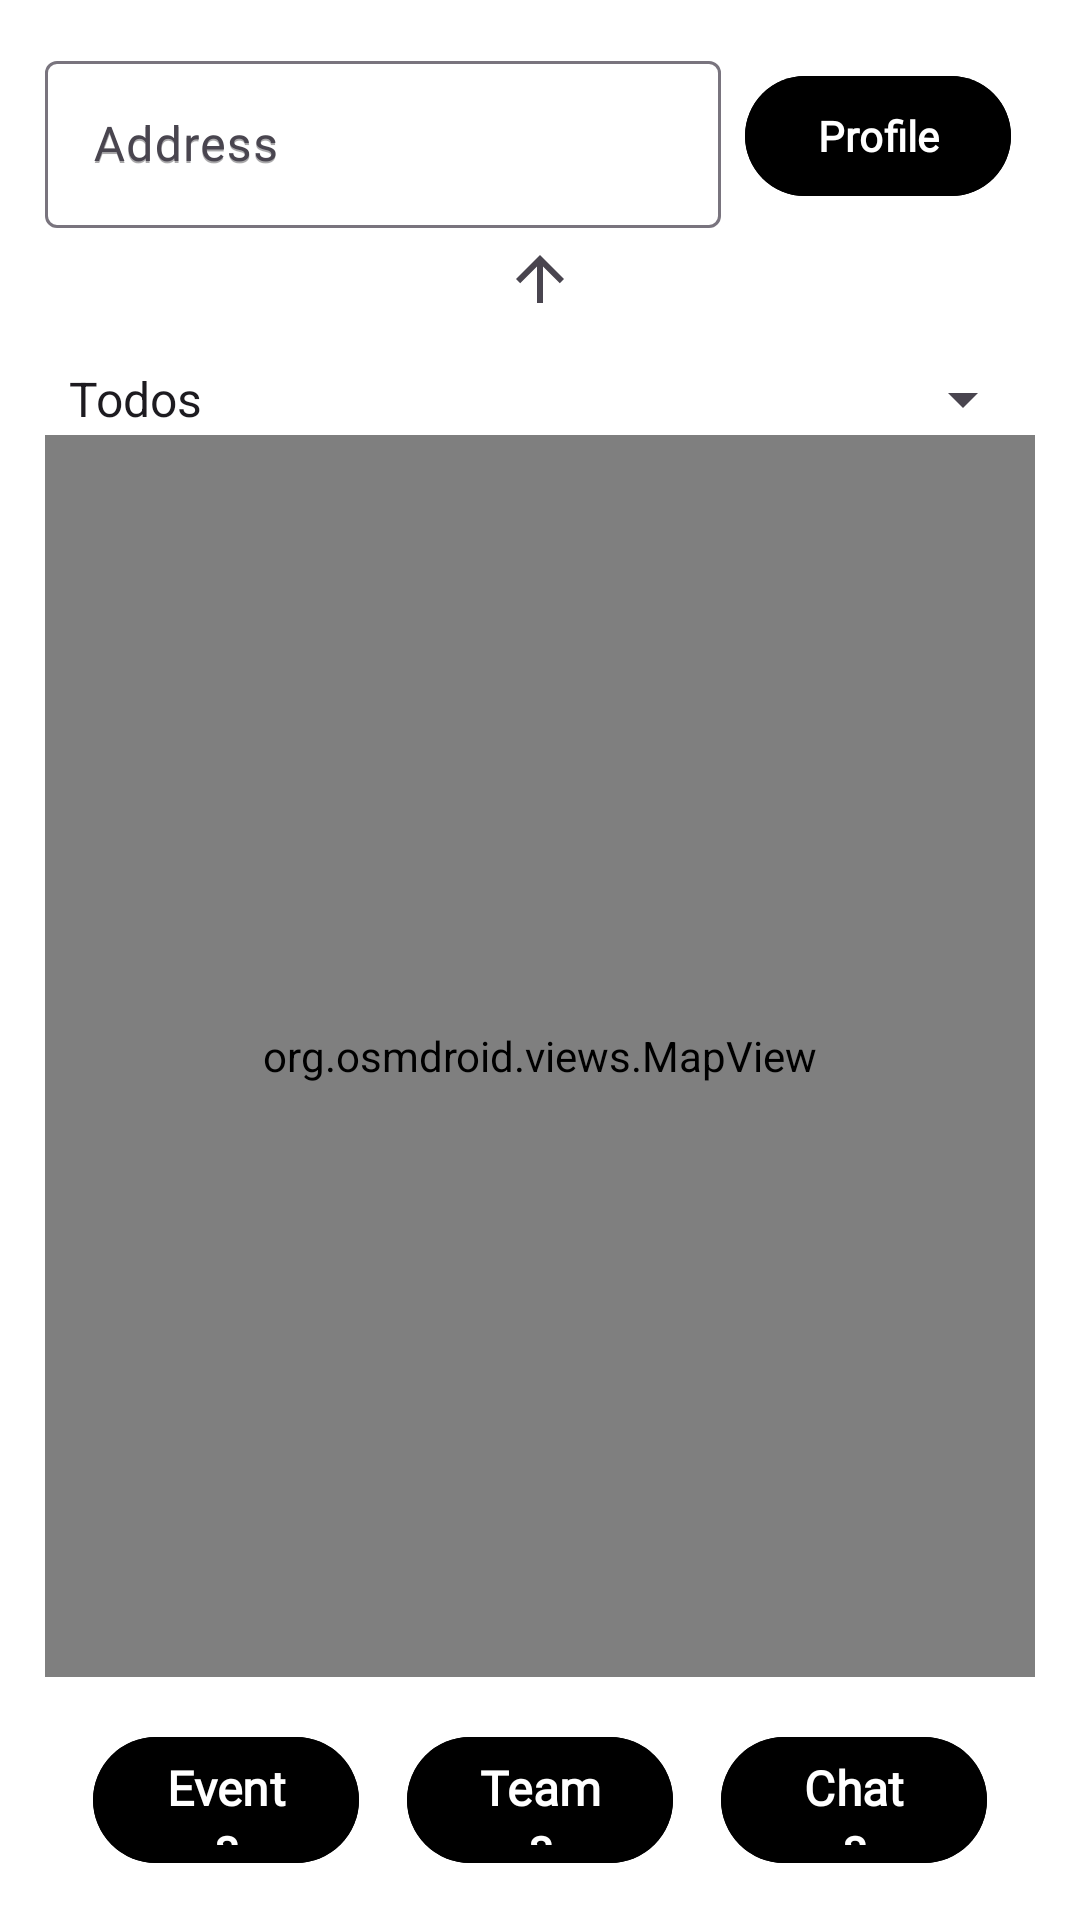

Named icons in this screenshot (1080x1920) and their bounding boxes, (x1, y1, x2, y2):
arrow upward: (516, 255, 564, 303)
